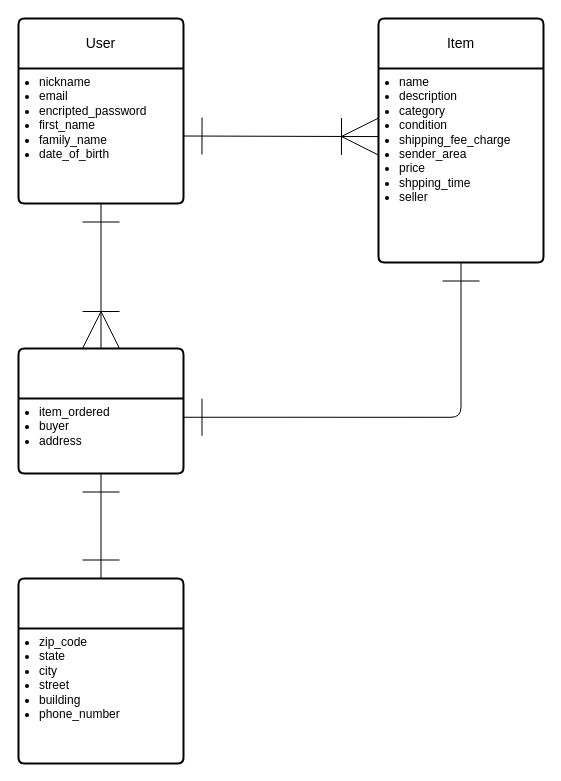
Image size: 561x781. Some labels were removed from this diagram. The box of each missing label's shape, as (x1, y1, x2, y2) in pixels:
Address: (17, 577, 184, 764)
Purchase: (17, 347, 184, 474)
